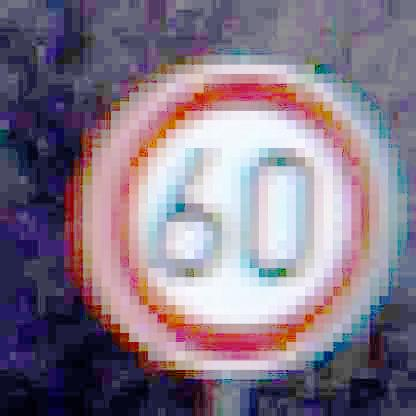Speed Limit -60-: (82, 60, 388, 375)
